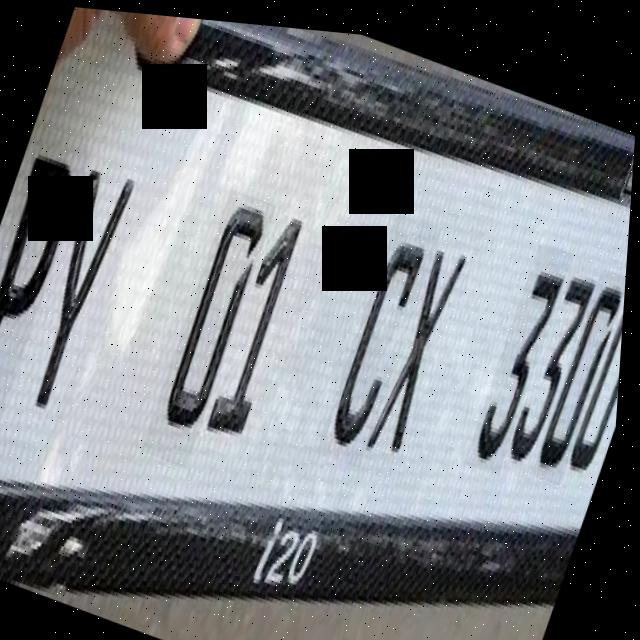0: (146, 178, 279, 469), (537, 251, 629, 477), (563, 255, 629, 495)
1: (199, 183, 326, 462)
3: (469, 226, 577, 469), (506, 241, 605, 475)
C: (321, 199, 444, 465)
P: (0, 124, 97, 440)
X: (362, 195, 490, 482)
Y: (0, 133, 147, 454)
